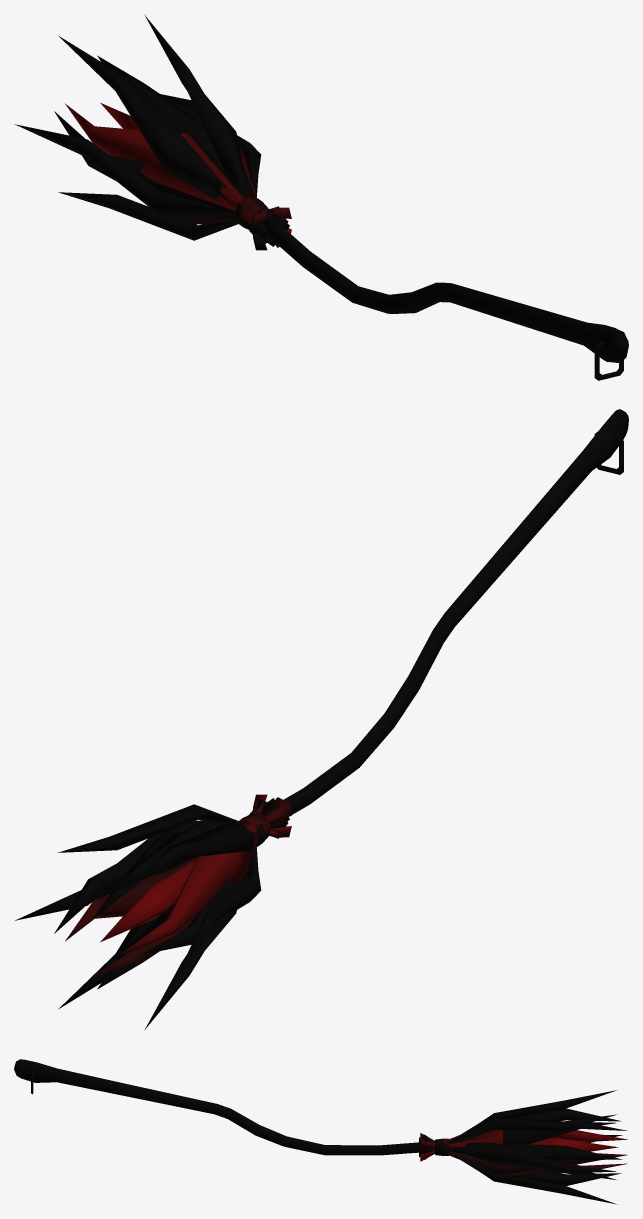
The model's file is bloom.FBX.
3 renders of one model, top to bottom at view 1: azimuth 30°, elevation 25°; view 2: azimuth 150°, elevation 25°; view 3: azimuth 270°, elevation 25°, orthographic. The views are drawn at different scales.
Parts seen in each view (by area): view 1: U_Char; view 2: U_Char; view 3: U_Char.
Boxes of the visible parts, <box> form: U_Char: <box>14,15,628,380</box>; U_Char: <box>15,409,628,1029</box>; U_Char: <box>14,1059,627,1204</box>.
Size of the model in its own units: 0.7345 by 0.9378 by 3.92.
